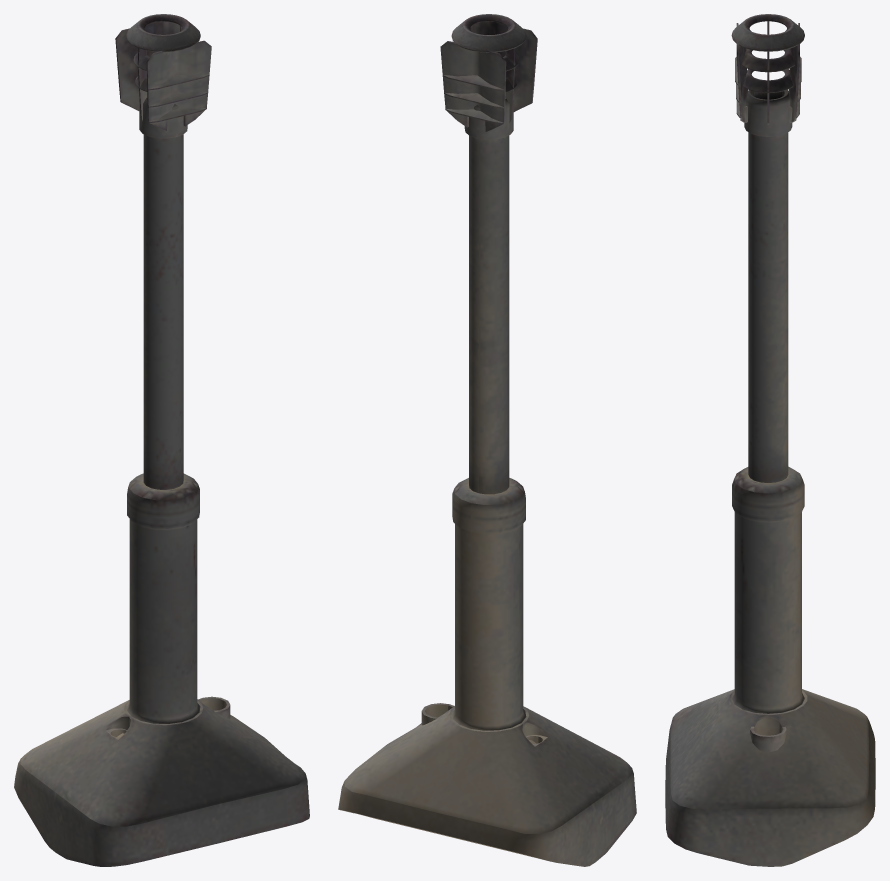
File: Gun_02.glb
The picture shows the model from 3 angles, left to right: view 1: azimuth 30°, elevation 25°; view 2: azimuth 150°, elevation 25°; view 3: azimuth 270°, elevation 25°; orthographic projection. The views are drawn at different scales.
Parts seen in each view (by area): view 1: set_0_group_0; view 2: set_0_group_0; view 3: set_0_group_0.
Part boxes in pixels (<box>): set_0_group_0: <box>14,14,309,866</box>; set_0_group_0: <box>338,14,636,866</box>; set_0_group_0: <box>665,14,875,866</box>.
Size of the model in its own units: 0.6675 by 2.39 by 0.576.
1 material, 1 textured.
